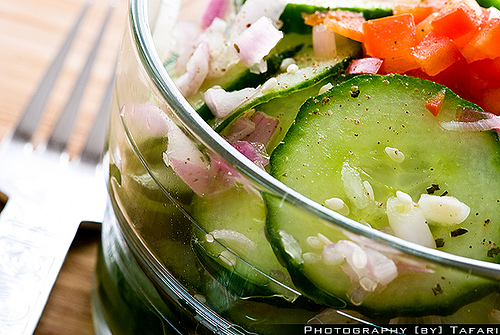cucumber: (261, 67, 499, 322), (208, 68, 343, 290), (280, 0, 393, 36)
